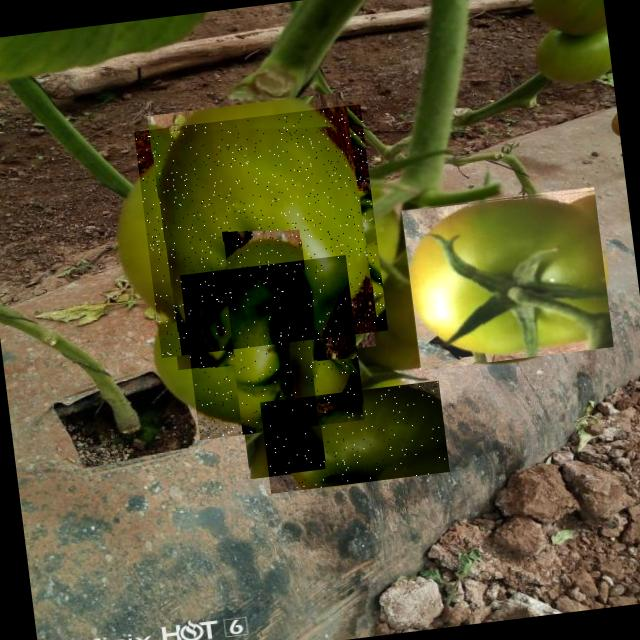Unripe Tomato: (134, 104, 388, 358), (401, 186, 614, 370), (180, 255, 366, 440), (260, 380, 450, 493)
